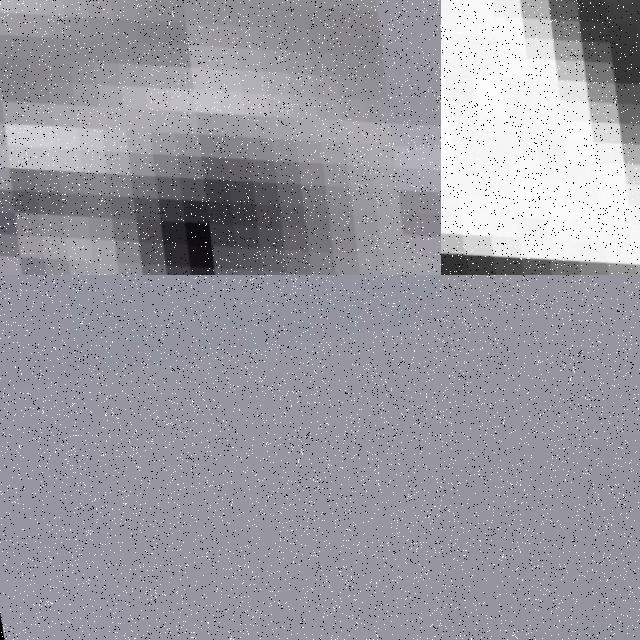drone: (0, 0, 441, 275), (441, 0, 640, 275)
